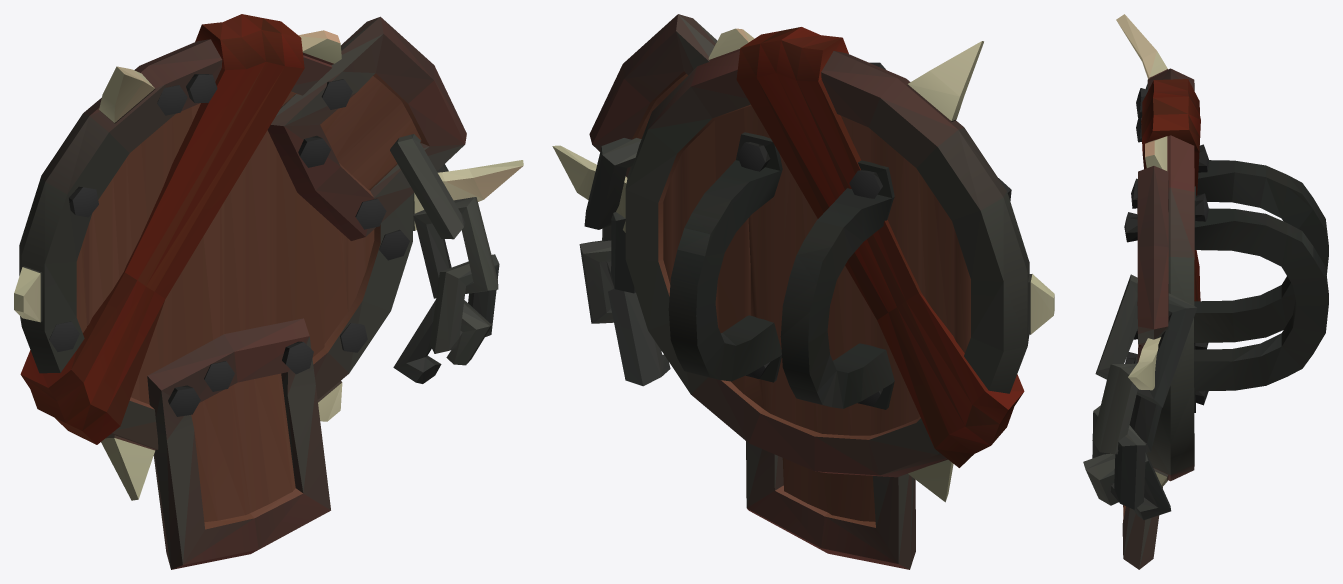
File: weapon_shield_red.fbx
The picture shows the model from 3 angles, left to right: view 1: azimuth 30°, elevation 25°; view 2: azimuth 150°, elevation 25°; view 3: azimuth 270°, elevation 25°; orthographic projection. The views are drawn at different scales.
Parts seen in each view (by area): view 1: weapon_shield_red; view 2: weapon_shield_red; view 3: weapon_shield_red.
Boxes of the visible parts, bbox=[...] form: weapon_shield_red: bbox=[14, 14, 523, 569]; weapon_shield_red: bbox=[552, 14, 1054, 569]; weapon_shield_red: bbox=[1083, 14, 1328, 569].
Size of the model in its own units: 1.08 by 1.1 by 0.5084.
